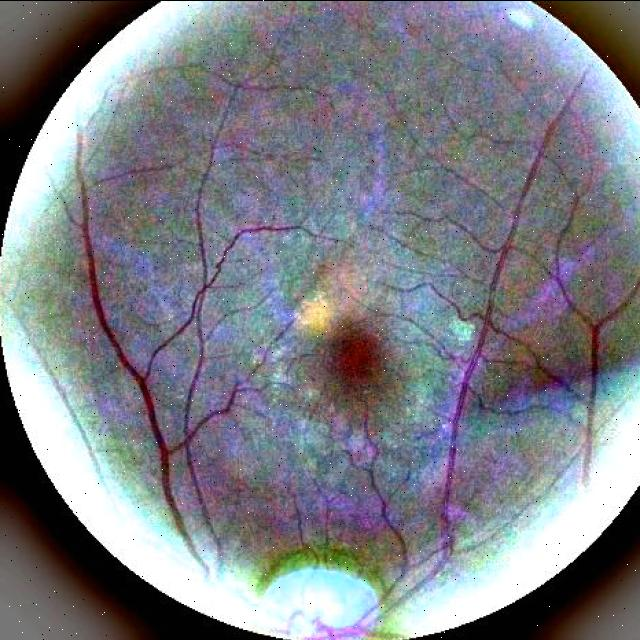Macula: (320, 313, 386, 396)
Nerves: (78, 174, 293, 570), (301, 298, 489, 640)
Optic Disk: (250, 555, 398, 640)
